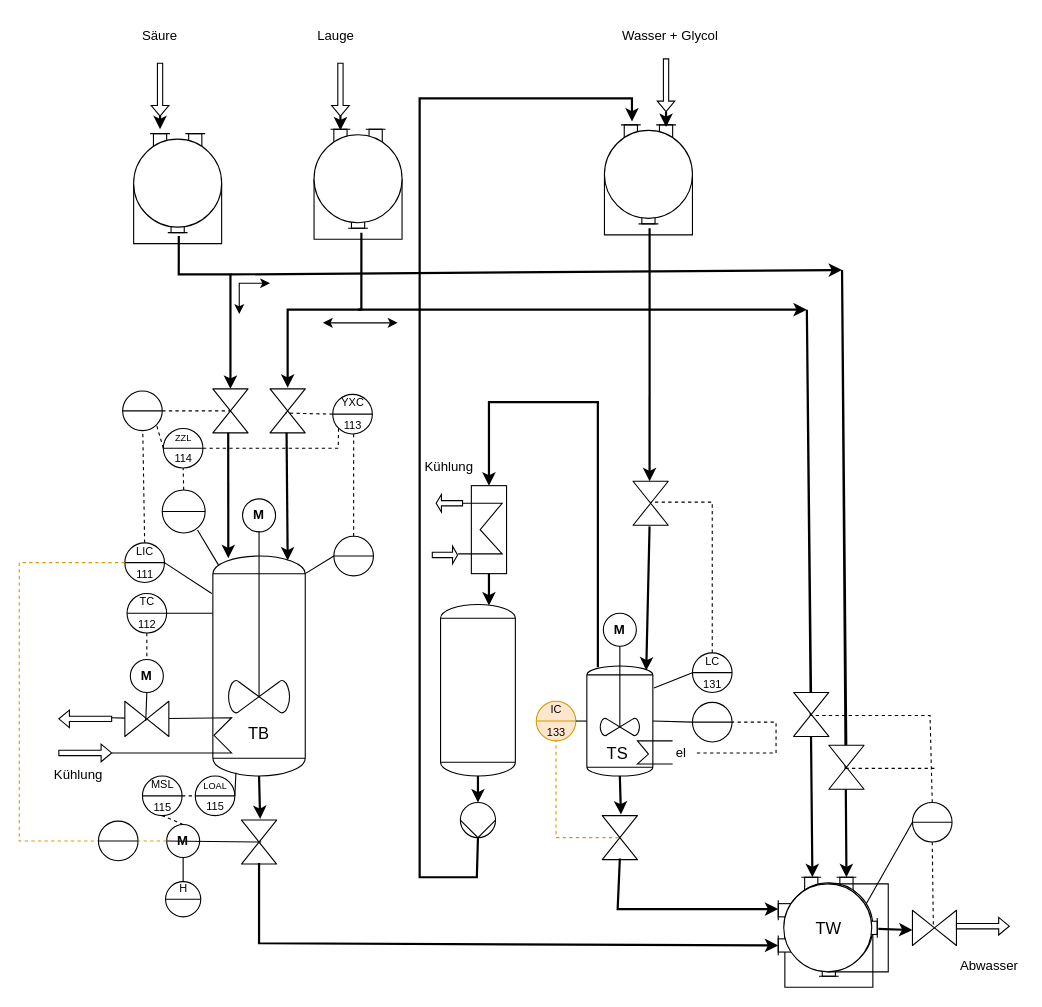
Some shapes in this 1042 by 1007 pixel diagram are drawn without their labels. The shapes that lost their labels are listed below. From the top down, each one's box as (x1, y1, x2, y2) in pixels, then its label:
(122, 390, 162, 431): YXC 111
(161, 489, 205, 533): LOAH 114
(333, 535, 373, 576): XIC 113
(439, 603, 515, 776): TM
(691, 701, 732, 742): TC 132
(97, 820, 138, 861): YCZ 111
(911, 801, 952, 842): XC 143
